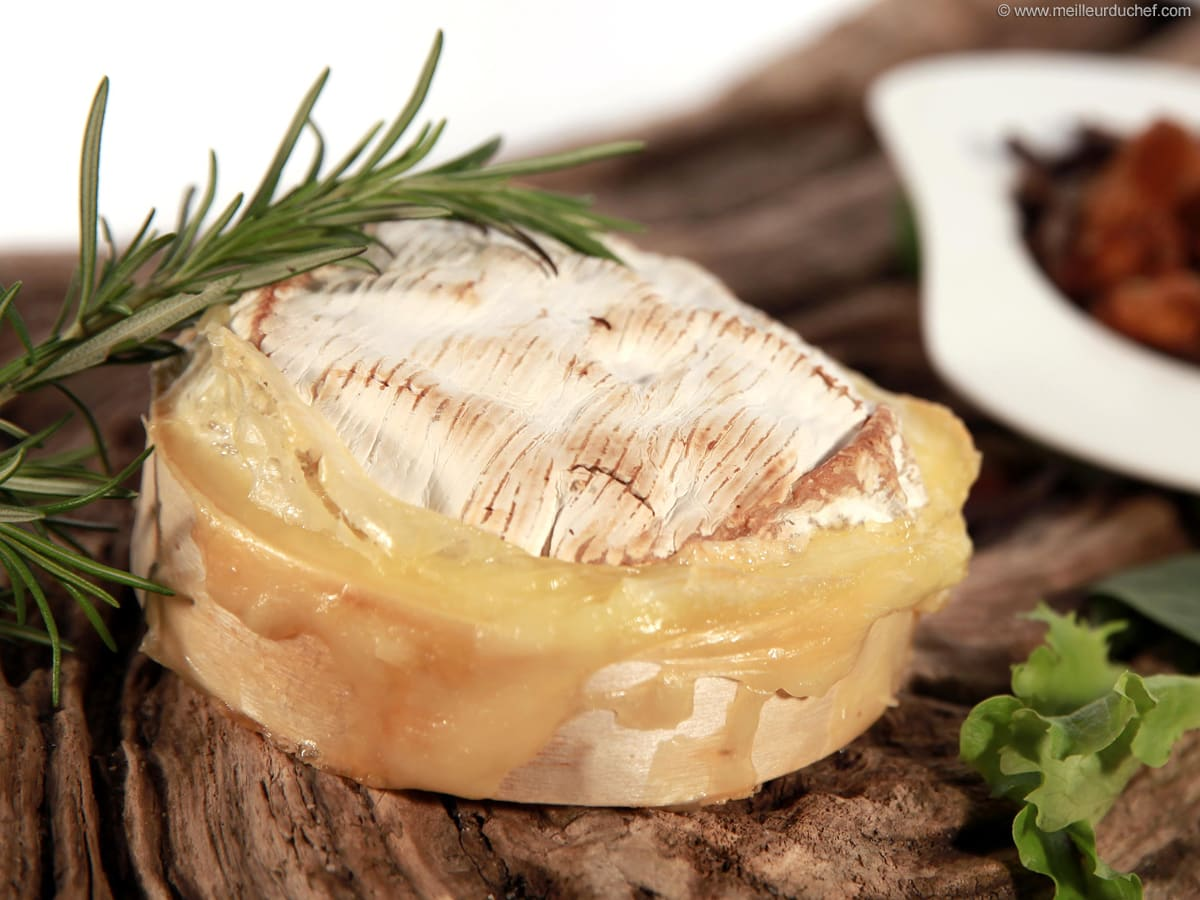camembert: (139, 183, 992, 704)
